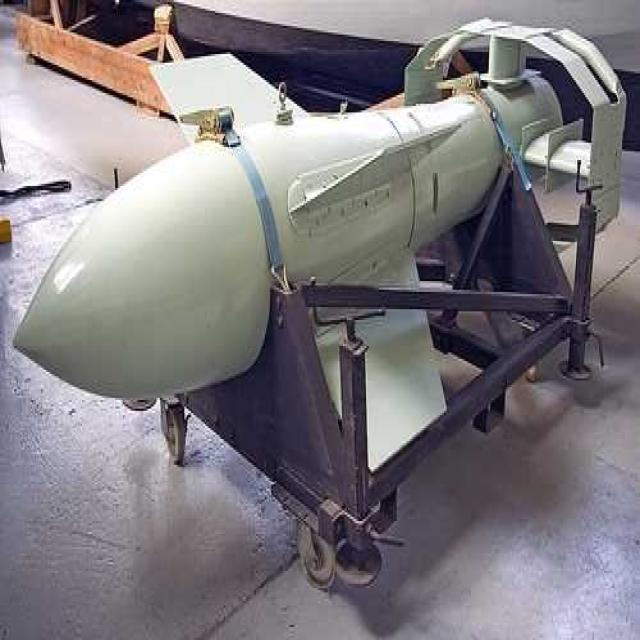missile: (25, 0, 640, 473)
